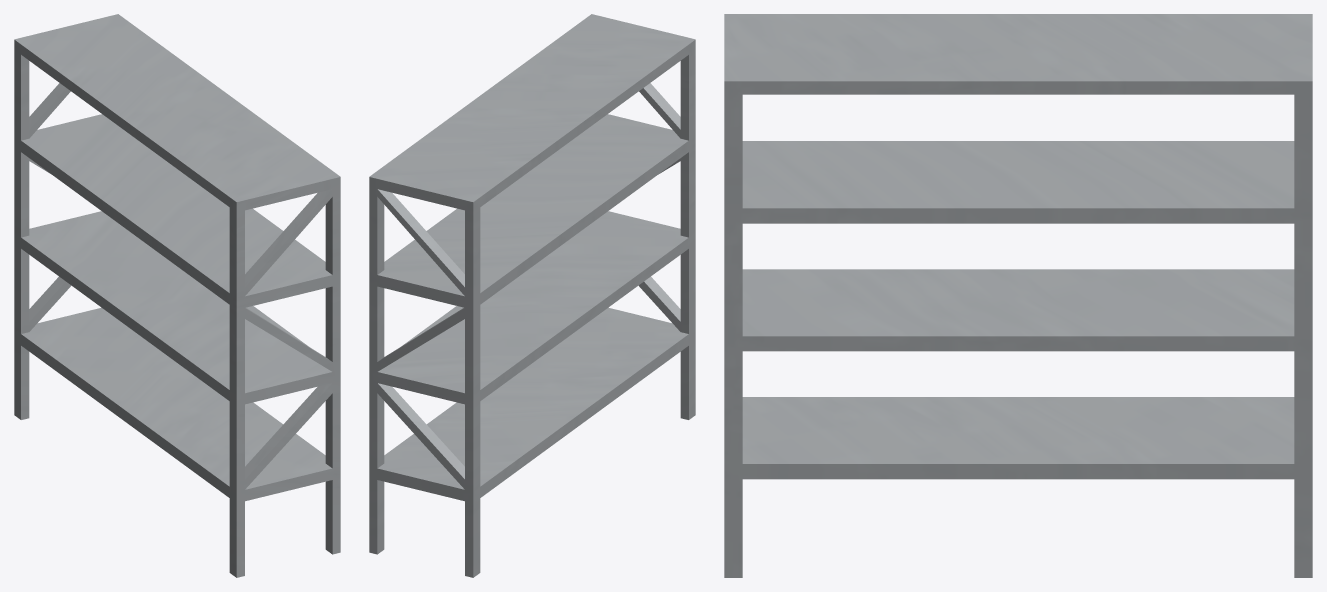
The model's file is Tutorial_shelf.fbx.
The picture shows the model from 3 angles, left to right: view 1: azimuth 30°, elevation 25°; view 2: azimuth 150°, elevation 25°; view 3: azimuth 270°, elevation 25°; orthographic projection. The views are drawn at different scales.
Visible parts, largest first — view 1: storageShelf; view 2: storageShelf; view 3: storageShelf.
Boxes of the visible parts, x1=… form: storageShelf: x1=14, y1=14, x2=340, y2=577; storageShelf: x1=369, y1=14, x2=695, y2=577; storageShelf: x1=724, y1=14, x2=1312, y2=577.
Size of the model in its own units: 3.42 by 11.78 by 12.65.
1 material, 1 textured.
